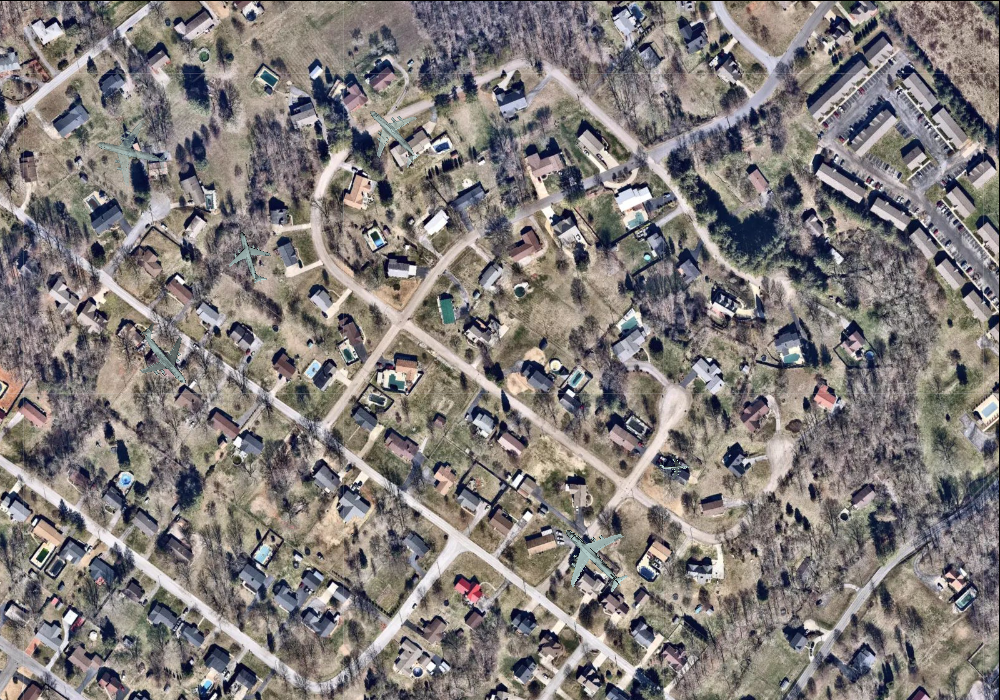plane: (540, 504, 647, 611), (346, 89, 439, 182), (118, 308, 210, 401), (87, 110, 175, 194), (219, 224, 281, 290), (658, 451, 690, 481)
